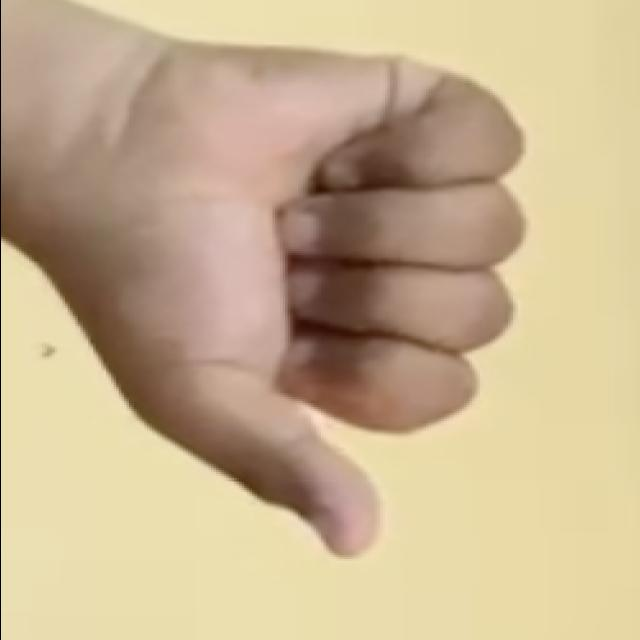A: (53, 33, 546, 566)
